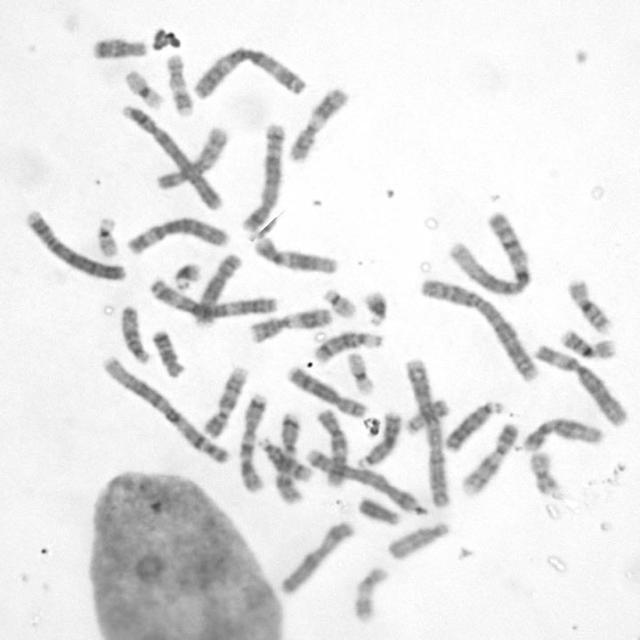A1: (98, 354, 231, 466), (443, 208, 534, 296)
A2: (417, 274, 541, 384), (402, 354, 452, 508)
A3: (188, 43, 309, 101), (143, 274, 279, 320)
B4: (117, 100, 226, 214), (22, 207, 128, 283)
B5: (303, 446, 422, 514), (238, 119, 286, 235)
C10: (151, 122, 230, 192), (313, 406, 350, 490)
C11: (285, 83, 351, 165), (245, 304, 334, 344)
C12: (250, 233, 340, 276), (520, 415, 604, 453)
C6: (532, 340, 630, 428), (123, 213, 230, 257)
C7: (234, 390, 270, 494), (272, 412, 303, 508)
C8: (284, 363, 368, 419), (190, 250, 243, 328)
C9: (458, 420, 520, 497), (199, 362, 251, 439)
D13: (441, 397, 504, 453), (353, 406, 402, 469)
D14: (254, 435, 312, 483), (310, 327, 384, 364)
D15: (384, 518, 451, 562), (116, 302, 151, 364)
E16: (564, 275, 614, 335), (558, 326, 618, 360)
E17: (350, 562, 390, 626), (165, 50, 195, 118)
E18: (149, 326, 187, 379), (87, 33, 149, 61)
F19: (122, 67, 166, 111), (343, 349, 378, 396)
F20: (402, 394, 452, 437), (526, 448, 563, 497)
G21: (361, 288, 391, 326), (170, 259, 204, 291)
G22: (318, 286, 358, 320), (93, 214, 121, 258)
X: (274, 517, 357, 597)
Y: (355, 494, 402, 527)
